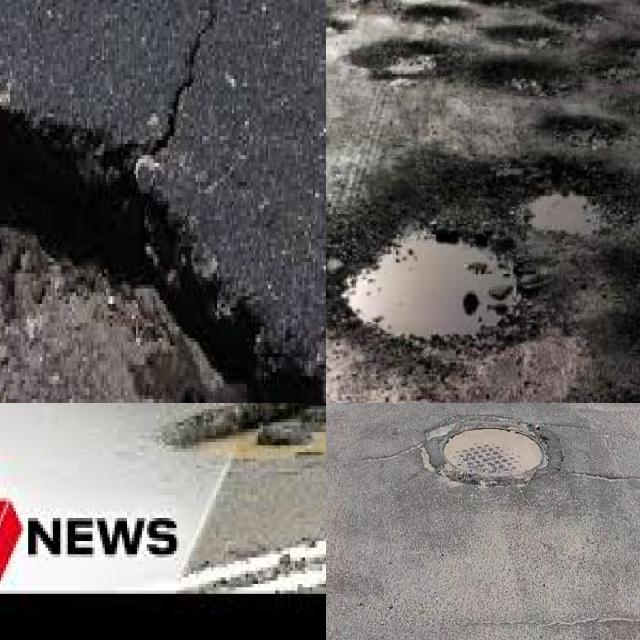Pothole: (0, 99, 326, 403), (340, 230, 520, 342), (162, 403, 326, 459), (438, 418, 551, 481), (346, 39, 452, 87), (520, 193, 617, 238), (469, 62, 586, 98), (538, 116, 629, 155)
